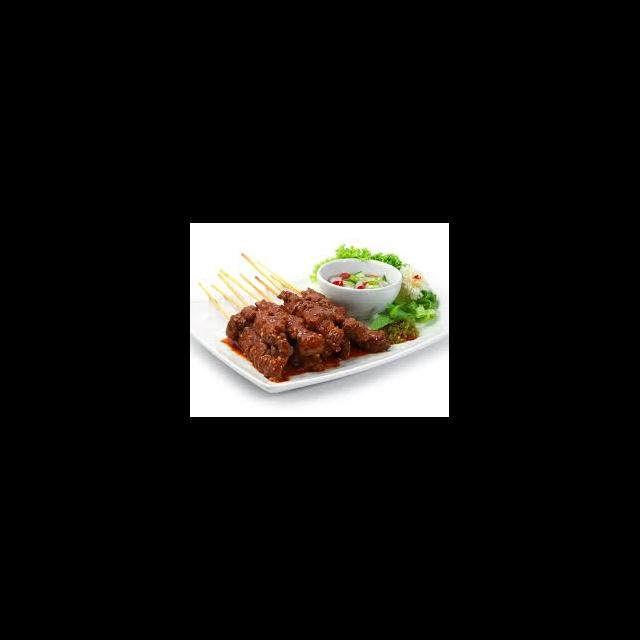food_waste: (243, 308, 359, 358)
